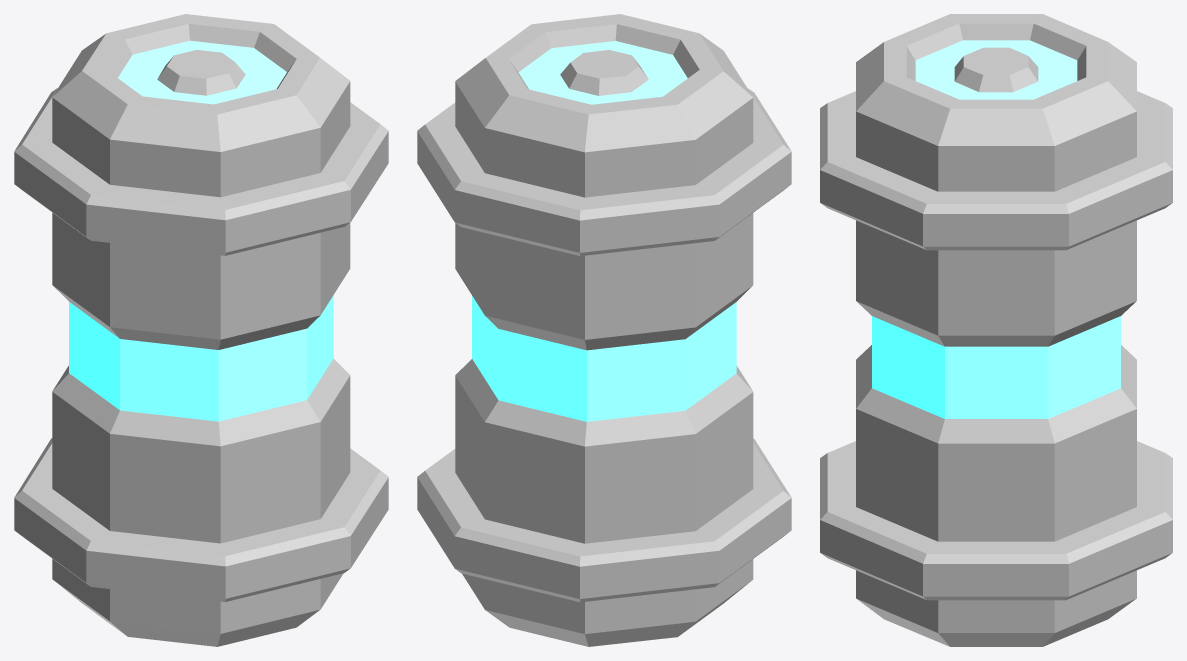
Rendered from entity343948.glb.
The picture shows the model from 3 angles, left to right: view 1: azimuth 30°, elevation 25°; view 2: azimuth 150°, elevation 25°; view 3: azimuth 270°, elevation 25°; orthographic projection.
Parts seen in each view (by area): view 1: node_SM_Prop_PowerCell_04 (4); view 2: node_SM_Prop_PowerCell_04 (4); view 3: node_SM_Prop_PowerCell_04 (4).
Boxes of the visible parts, x1,y1,x2,y2 form: node_SM_Prop_PowerCell_04 (4): (14,14,388,646); node_SM_Prop_PowerCell_04 (4): (417,14,791,646); node_SM_Prop_PowerCell_04 (4): (820,14,1172,646).
Bounding box in the file's own units: 0.2082 × 0.3502 × 0.2082.
